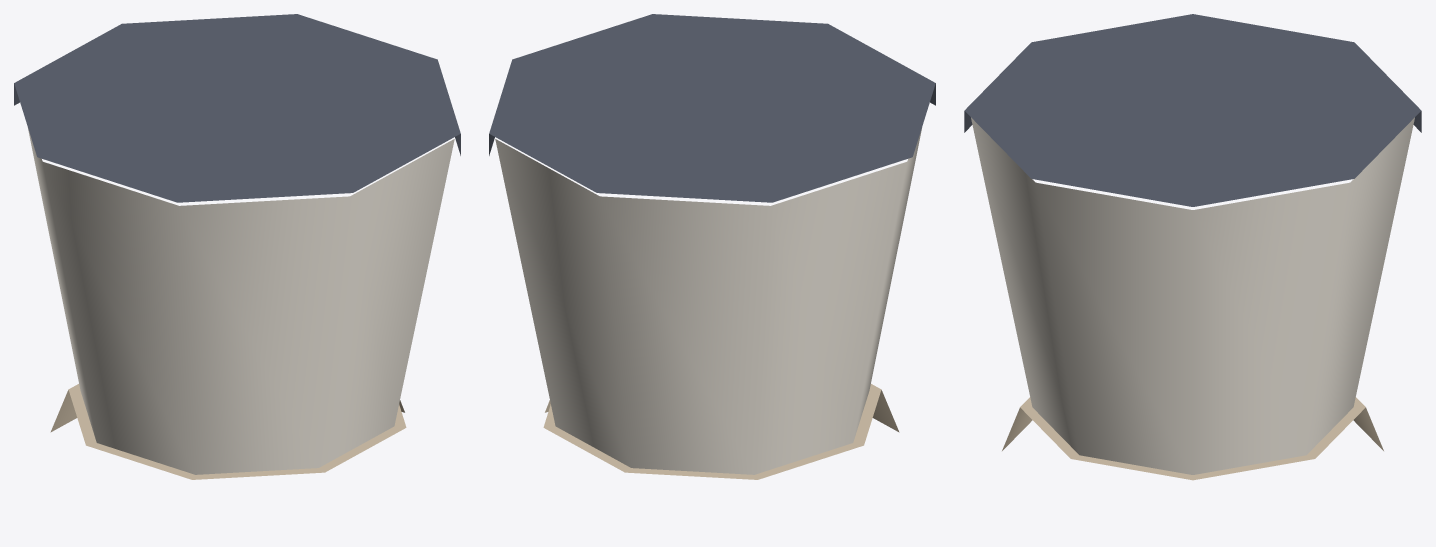
Rendered from SV_MTO_SKU_01_v01_lod2.glb.
3 views of the same model, side by side, from view 1: azimuth 30°, elevation 25°; view 2: azimuth 150°, elevation 25°; view 3: azimuth 270°, elevation 25° (orthographic).
Visible parts, largest first — view 1: SV_MTO_SKU_01_v01; view 2: SV_MTO_SKU_01_v01; view 3: SV_MTO_SKU_01_v01.
Boxes of the visible parts, <box> form: SV_MTO_SKU_01_v01: <box>14,14,460,479</box>; SV_MTO_SKU_01_v01: <box>489,14,935,479</box>; SV_MTO_SKU_01_v01: <box>964,14,1421,480</box>.
Bounding box in the file's own units: 0.148 × 0.122 × 0.148.
